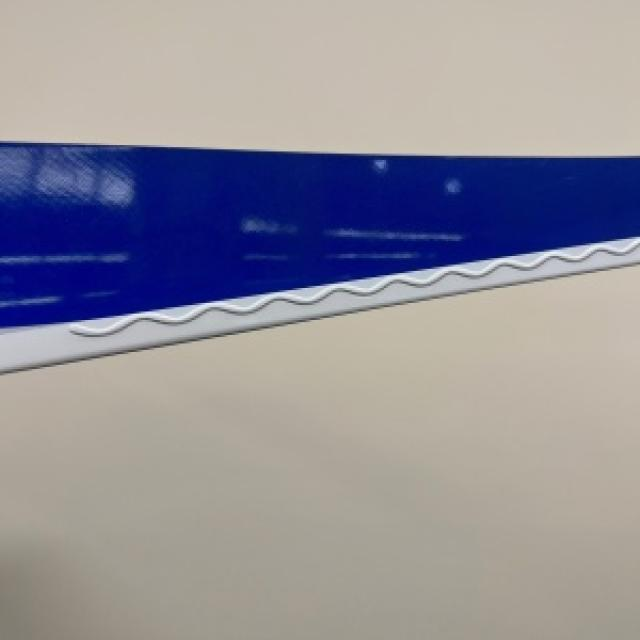healthy: (0, 141, 638, 369)
